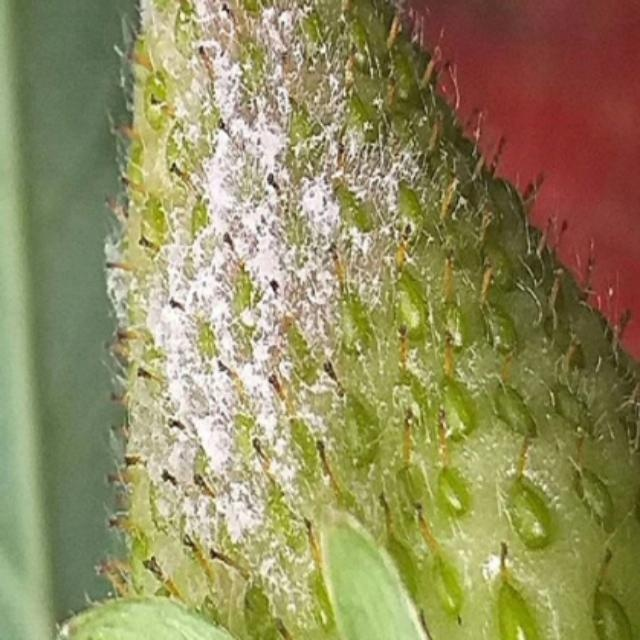Powdery Mildew Fruit: (101, 2, 597, 627)
